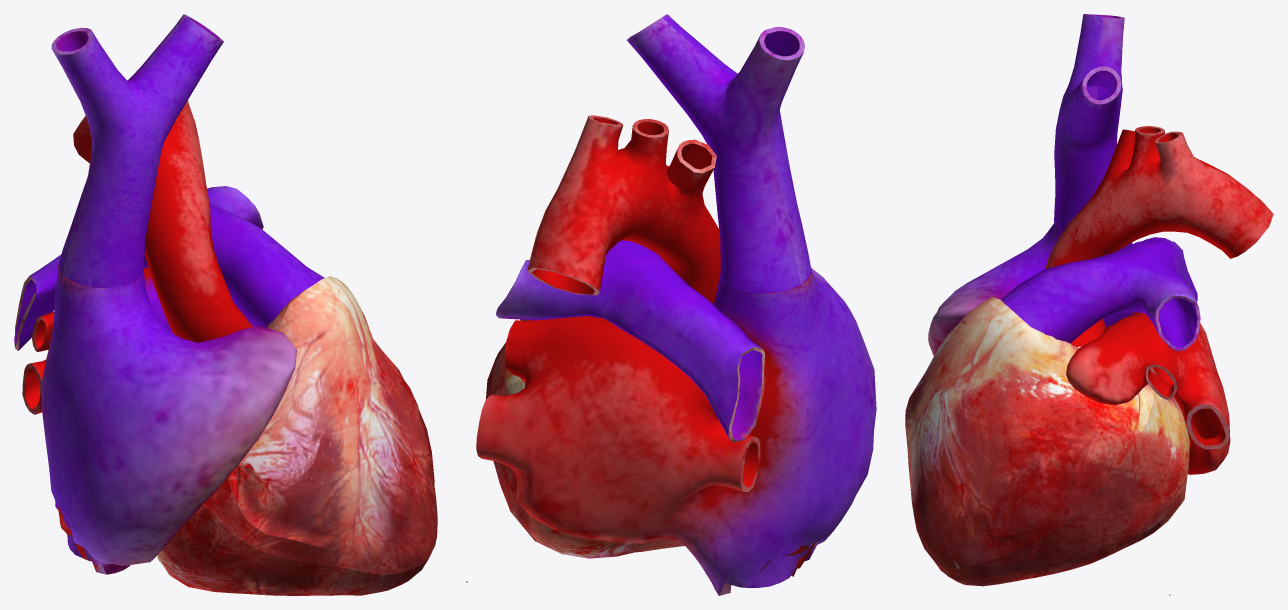
File: heart-base-v2.glb
The picture shows the model from 3 angles, left to right: view 1: azimuth 30°, elevation 25°; view 2: azimuth 150°, elevation 25°; view 3: azimuth 270°, elevation 25°; orthographic projection. The views are drawn at different scales.
Visible parts, largest first — view 1: Atria, CutawayDoor, SVC, Aorta, PulmonaryArtery, Ventricles, InnerCap; view 2: Atria, SVC, Aorta, PulmonaryArtery, Ventricles, CutawayDoor; view 3: CutawayDoor, Aorta, Atria, Ventricles, PulmonaryArtery, SVC, InnerCap.
Boxes of the visible parts, left/top/right/bottom form: Atria: left=22, top=265, right=296, bottom=574; CutawayDoor: left=228, top=276, right=435, bottom=569; SVC: left=51, top=14, right=223, bottom=287; Aorta: left=73, top=100, right=252, bottom=342; PulmonaryArtery: left=14, top=186, right=324, bottom=350; Ventricles: left=157, top=505, right=431, bottom=595; InnerCap: left=203, top=477, right=437, bottom=574; Atria: left=476, top=268, right=876, bottom=595; SVC: left=627, top=14, right=811, bottom=293; Aorta: left=527, top=115, right=720, bottom=303; PulmonaryArtery: left=495, top=240, right=764, bottom=442; Ventricles: left=493, top=380, right=684, bottom=558; CutawayDoor: left=486, top=343, right=510, bottom=398; CutawayDoor: left=905, top=296, right=1138, bottom=553; Aorta: left=1045, top=126, right=1273, bottom=346; Atria: left=928, top=222, right=1230, bottom=474; Ventricles: left=930, top=367, right=1189, bottom=586; PulmonaryArtery: left=1001, top=237, right=1200, bottom=351; SVC: left=1054, top=14, right=1124, bottom=231; InnerCap: left=922, top=368, right=1154, bottom=568.
Bounding box in the file's own units: 0.2474 × 0.386 × 0.2701.
Materials: 2 (1 with a texture image).
